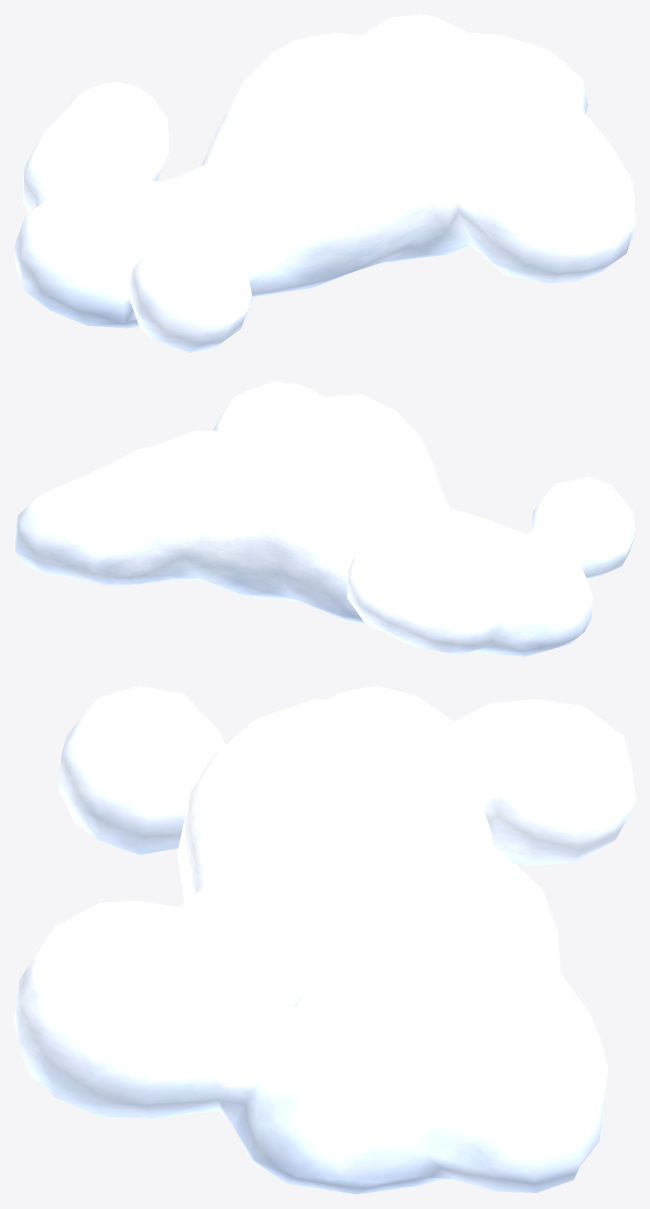
The model's file is cloud-1.glb.
3 renders of one model, top to bottom at view 1: azimuth 30°, elevation 25°; view 2: azimuth 150°, elevation 25°; view 3: azimuth 270°, elevation 25°, orthographic. The views are drawn at different scales.
Parts seen in each view (by area): view 1: cloud-1; view 2: cloud-1; view 3: cloud-1.
Part boxes in pixels (x1,y1,x2,y2): cloud-1: (14, 14, 635, 352); cloud-1: (14, 381, 635, 656); cloud-1: (14, 685, 635, 1194).
Size of the model in its own units: 0.8679 by 0.2825 by 0.5501.
Materials: 1 (1 with a texture image).
